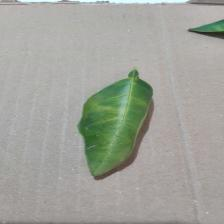greening: (77, 86, 140, 148)
